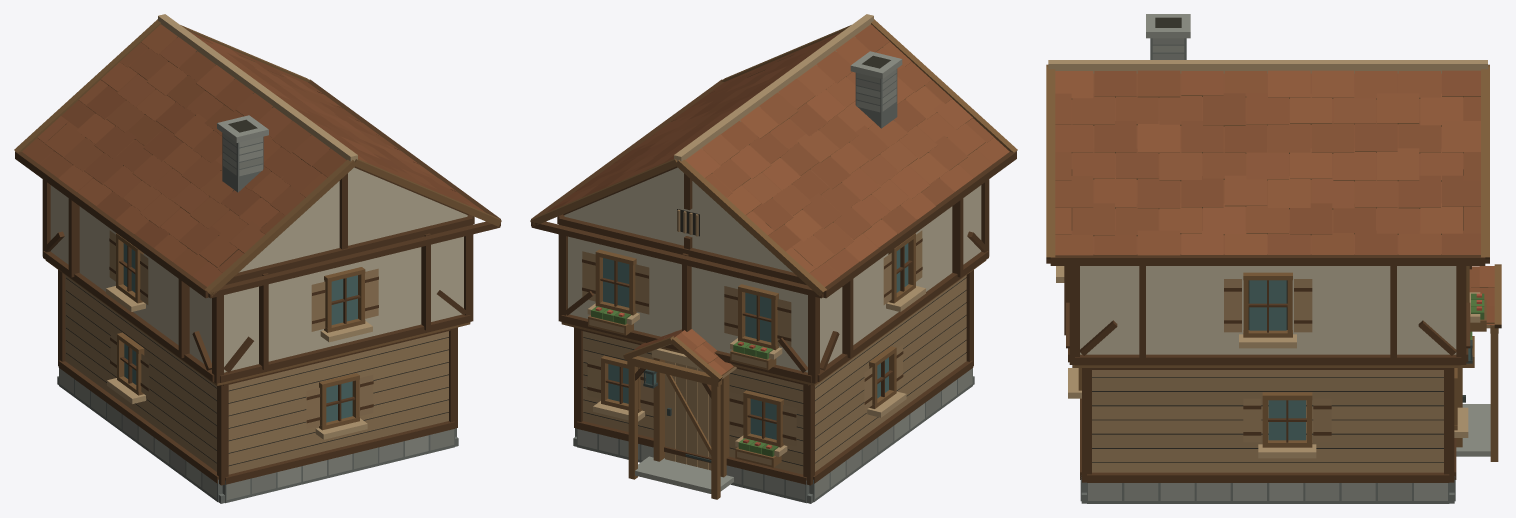
Rendered from CabinL2.glb.
3 views of the same model, side by side, from view 1: azimuth 30°, elevation 25°; view 2: azimuth 150°, elevation 25°; view 3: azimuth 270°, elevation 25° (orthographic). The views are drawn at different scales.
Visible parts, largest first — view 1: CabinL2_Body, HouseGlass; view 2: CabinL2_Body, HouseGlass, HouseDoor; view 3: CabinL2_Body, HouseGlass.
Boxes of the visible parts, x1,y1,x2,y2 form: CabinL2_Body: [14, 14, 501, 503]; HouseGlass: [123, 243, 357, 422]; CabinL2_Body: [530, 14, 1017, 503]; HouseGlass: [603, 243, 908, 439]; HouseDoor: [664, 360, 711, 470]; CabinL2_Body: [1046, 14, 1501, 503]; HouseGlass: [1249, 280, 1470, 440].
Bounding box in the file's own units: 6.44 × 6.98 × 7.54.
